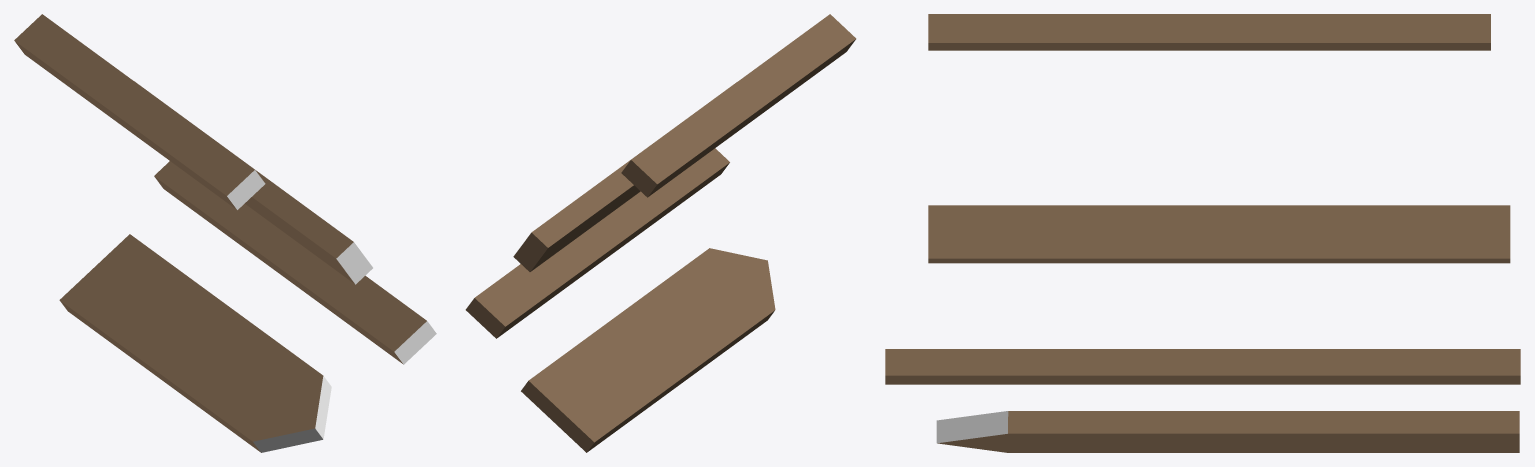
3 renders of one model, left to right at view 1: azimuth 30°, elevation 25°; view 2: azimuth 150°, elevation 25°; view 3: azimuth 270°, elevation 25°, orthographic. The views are drawn at different scales.
Parts seen in each view (by area): view 1: City_PC-08566; view 2: City_PC-08566; view 3: City_PC-08566.
Part boxes in pixels (x1=…): City_PC-08566: x1=14, y1=14, x2=436, y2=452; City_PC-08566: x1=465, y1=14, x2=856, y2=452; City_PC-08566: x1=885, y1=14, x2=1520, y2=452.
Bounding box in the file's own units: 673 × 1042 × 1445.
